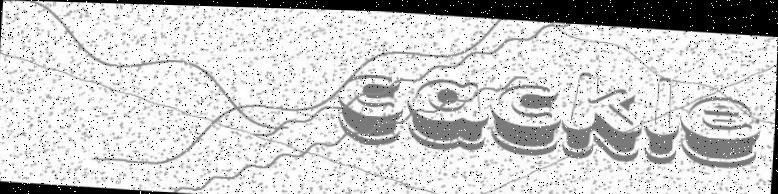a: (406, 73, 491, 149)
c: (488, 78, 565, 155), (335, 68, 408, 144)
e: (679, 89, 763, 165)
k: (561, 64, 646, 159)
l: (644, 69, 683, 162)
